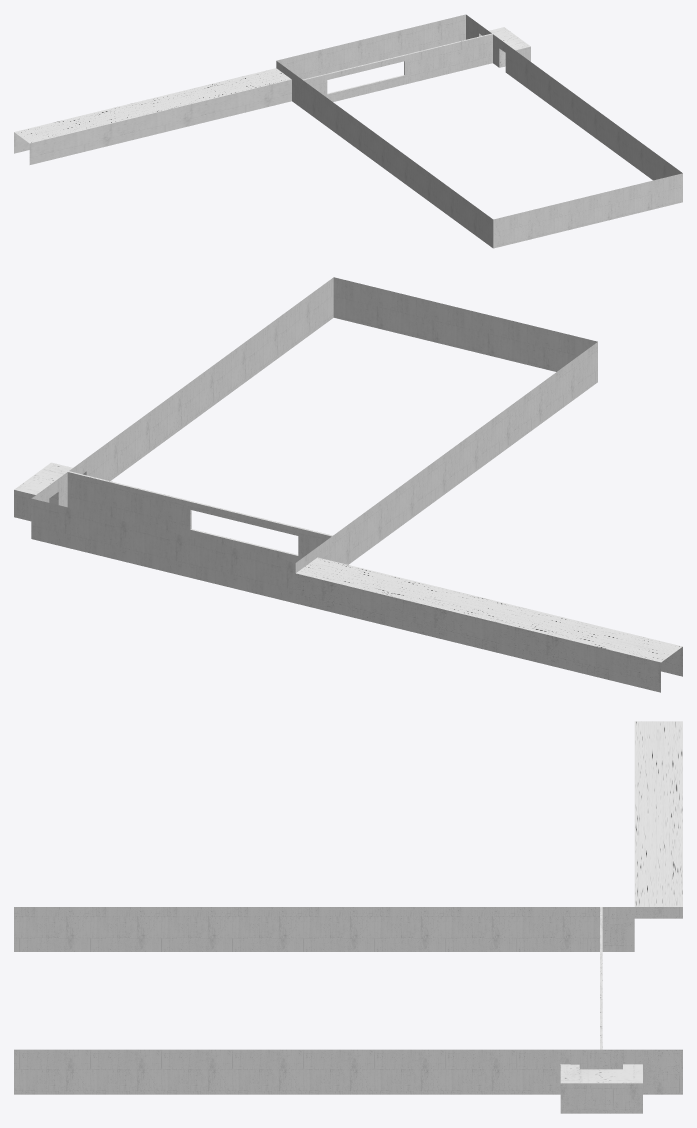
Rendered from Walls (2).fbx.
The picture shows the model from 3 angles, top to bottom: view 1: azimuth 30°, elevation 25°; view 2: azimuth 150°, elevation 25°; view 3: azimuth 270°, elevation 25°; orthographic projection. The views are drawn at different scales.
Visible parts, largest first — view 1: RangeWalls; view 2: RangeWalls; view 3: RangeWalls.
Boxes of the visible parts, bbox=[...] form: RangeWalls: bbox=[14, 14, 682, 248]; RangeWalls: bbox=[14, 277, 682, 692]; RangeWalls: bbox=[14, 721, 682, 1113].
Bounding box in the file's own units: 9583 × 7546 × 558.
